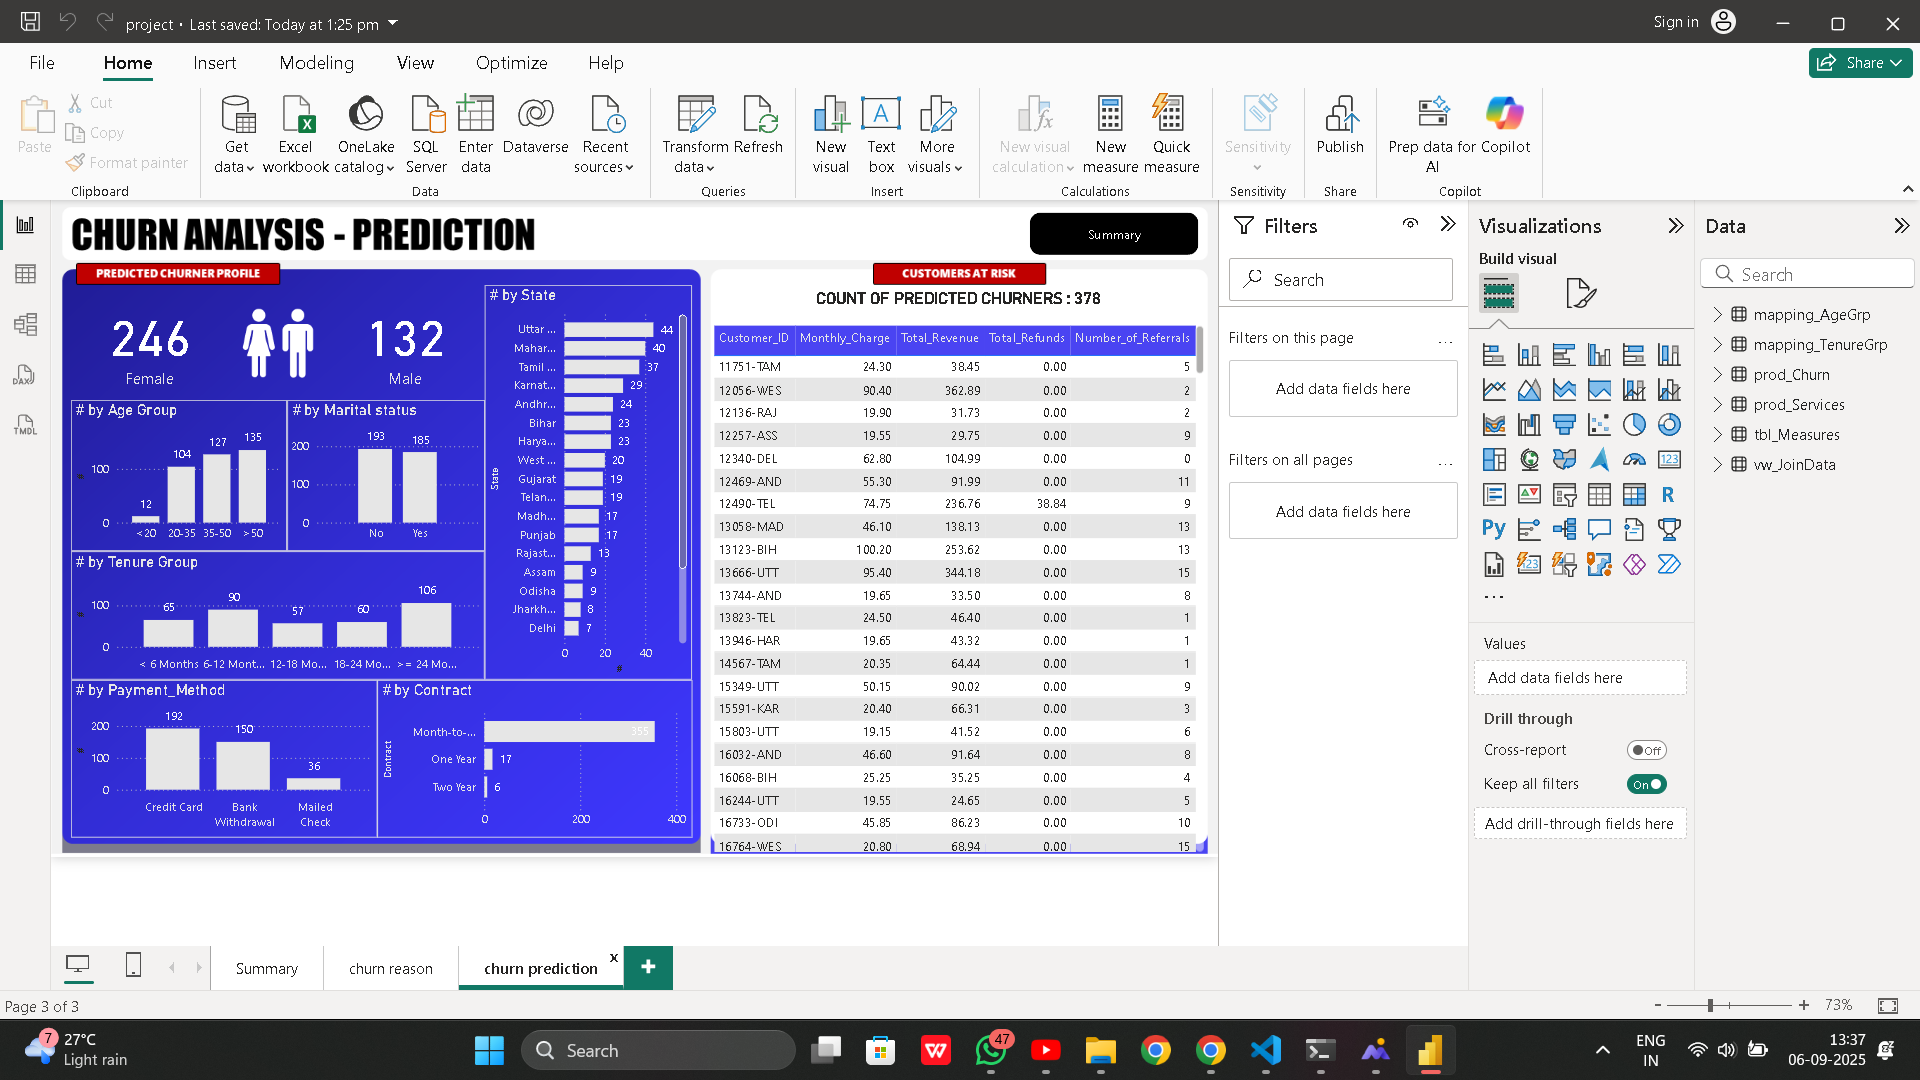

This screenshot's page, from the dashboard's own definition file:
{"tool":"powerbi","page":{"name":"churn prediction","canvas":[1280,720],"ordinal":2},"visuals":[{"type":"tableEx","fields":{"Values":["vw_JoinData.Customer_ID","vw_JoinData.Monthly_Charge","vw_JoinData.Total_Revenue","vw_JoinData.Total_Refunds","vw_JoinData.Number_of_Referrals"]},"box":[721,133,548.3,586.7],"z":0},{"type":"card","fields":{"Values":["tbl_Measures.Title Predicted Churners"]},"box":[785.4,93.2,420.8,30.2],"z":1000},{"type":"card","fields":{"Values":["tbl_Measures.Count Predicted Churner"]},"box":[21.9,93.2,174.1,126.1],"z":2000},{"type":"card","fields":{"Values":["tbl_Measures.Count Predicted Churner"]},"box":[301.6,93.2,174.1,126.1],"z":3000},{"type":"clusteredColumnChart","fields":{"Category":["mapping_AgeGrp.Age Group"],"Y":["CountNonNull(vw_JoinData.Customer_ID)"]},"box":[21.9,219.3,237.1,165.9],"z":3001},{"type":"clusteredColumnChart","fields":{"Category":["vw_JoinData.Married"],"Y":["CountNonNull(vw_JoinData.Customer_ID)"]},"box":[259.1,219.3,216.6,165.9],"z":3002},{"type":"clusteredColumnChart","fields":{"Y":["CountNonNull(vw_JoinData.Customer_ID)"],"Category":["mapping_TenureGrp.Tenure Group"]},"box":[21.9,385.2,453.7,141.2],"z":3003},{"type":"clusteredBarChart","fields":{"Category":["vw_JoinData.Contract"],"Y":["CountNonNull(vw_JoinData.Customer_ID)"]},"box":[357.8,526.4,345.4,172.7],"z":3004},{"type":"clusteredColumnChart","fields":{"Y":["CountNonNull(vw_JoinData.Customer_ID)"],"Category":["vw_JoinData.Payment_Method"]},"box":[21.9,526.4,335.8,172.7],"z":3005},{"type":"clusteredBarChart","fields":{"Y":["CountNonNull(vw_JoinData.Customer_ID)"],"Category":["vw_JoinData.State"]},"box":[475.6,93.2,227.5,433.2],"z":3006},{"type":"image","box":[196,93.2,105.5,126.1],"z":3007},{"type":"shape","box":[1073.3,13.7,185.1,46.6],"z":3008}]}

Visuals, with their boxes on the page's 1280x720 design canvas (x1, y1, x2, y2). These are canvas units, not pixel positions in the 1920x1080 screenshot, which may show the page scaled, cropped or inside an application window:
tableEx - vw_JoinData.Customer_ID x vw_JoinData.Monthly_Charge: left=721, top=133, right=1269, bottom=720
card - tbl_Measures.Title Predicted Churners: left=785, top=93, right=1206, bottom=123
card - tbl_Measures.Count Predicted Churner: left=22, top=93, right=196, bottom=219
card - tbl_Measures.Count Predicted Churner: left=302, top=93, right=476, bottom=219
clusteredColumnChart - mapping_AgeGrp.Age Group x CountNonNull(vw_JoinData.Customer_ID): left=22, top=219, right=259, bottom=385
clusteredColumnChart - vw_JoinData.Married x CountNonNull(vw_JoinData.Customer_ID): left=259, top=219, right=476, bottom=385
clusteredColumnChart - CountNonNull(vw_JoinData.Customer_ID) x mapping_TenureGrp.Tenure Group: left=22, top=385, right=476, bottom=526
clusteredBarChart - vw_JoinData.Contract x CountNonNull(vw_JoinData.Customer_ID): left=358, top=526, right=703, bottom=699
clusteredColumnChart - CountNonNull(vw_JoinData.Customer_ID) x vw_JoinData.Payment_Method: left=22, top=526, right=358, bottom=699
clusteredBarChart - CountNonNull(vw_JoinData.Customer_ID) x vw_JoinData.State: left=476, top=93, right=703, bottom=526
image: left=196, top=93, right=302, bottom=219
shape: left=1073, top=14, right=1258, bottom=60
